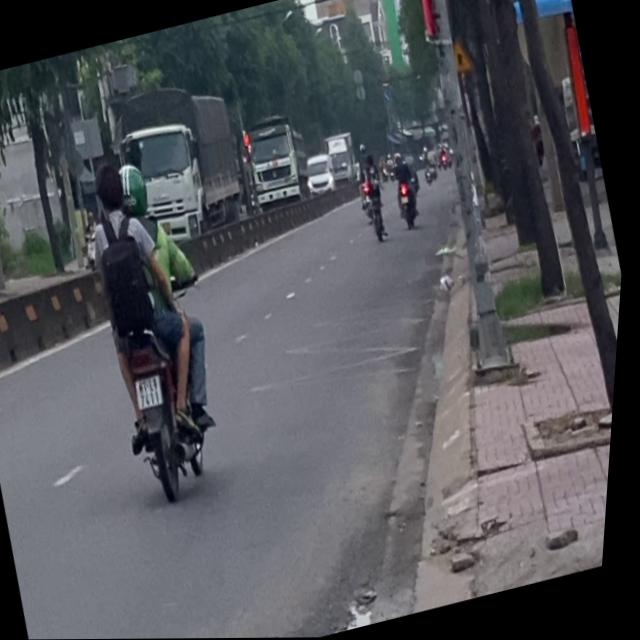helmet: (113, 158, 154, 218)
licenseplate: (55, 141, 256, 510)
motorcyclist: (88, 158, 132, 217)
nohelmet: (136, 374, 169, 410)
